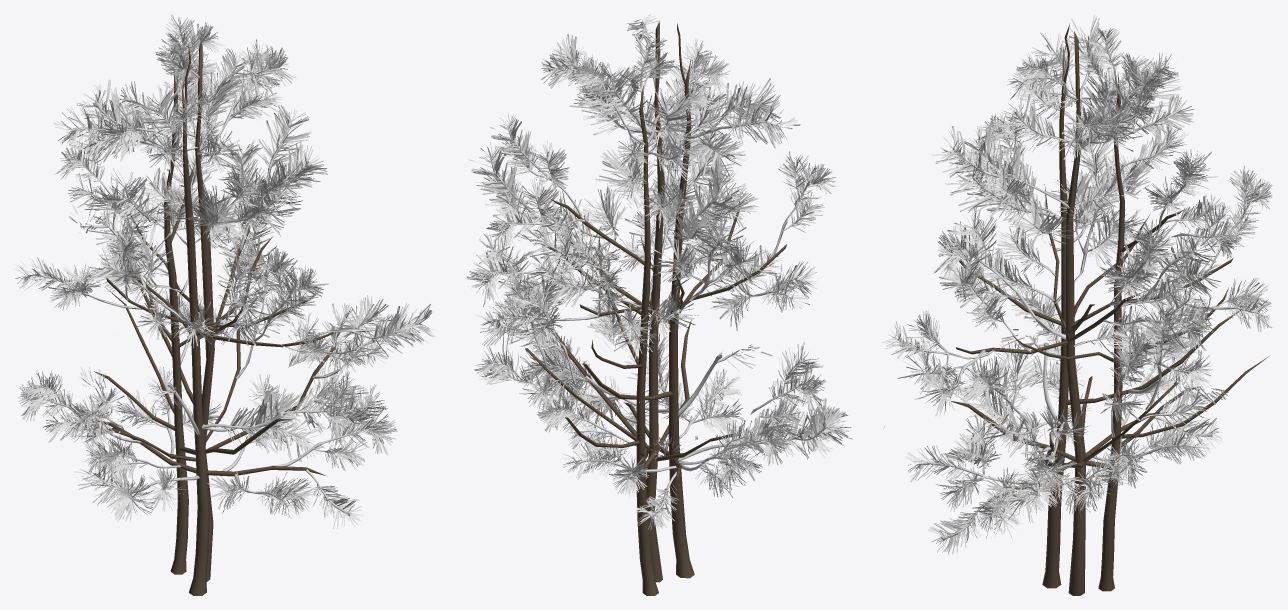
The model's file is pine_sapling_small.fbx.
The picture shows the model from 3 angles, left to right: view 1: azimuth 30°, elevation 25°; view 2: azimuth 150°, elevation 25°; view 3: azimuth 270°, elevation 25°; orthographic projection. The views are drawn at different scales.
Visible parts, largest first — view 1: pine_sapling_small_a, pine_sapling_small_c, pine_sapling_small_b; view 2: pine_sapling_small_a, pine_sapling_small_c, pine_sapling_small_b; view 3: pine_sapling_small_a, pine_sapling_small_c, pine_sapling_small_b.
Boxes of the visible parts, box(x1,y1,x2,y2) form: pine_sapling_small_a: box(15, 37, 435, 581); pine_sapling_small_c: box(17, 45, 397, 595); pine_sapling_small_b: box(68, 14, 337, 574); pine_sapling_small_a: box(465, 14, 836, 582); pine_sapling_small_c: box(518, 23, 852, 578); pine_sapling_small_b: box(486, 30, 753, 595); pine_sapling_small_a: box(881, 14, 1272, 595); pine_sapling_small_c: box(905, 23, 1244, 588); pine_sapling_small_b: box(883, 27, 1269, 591).
Size of the model in its own units: 0.9608 by 1.5 by 0.9502.
